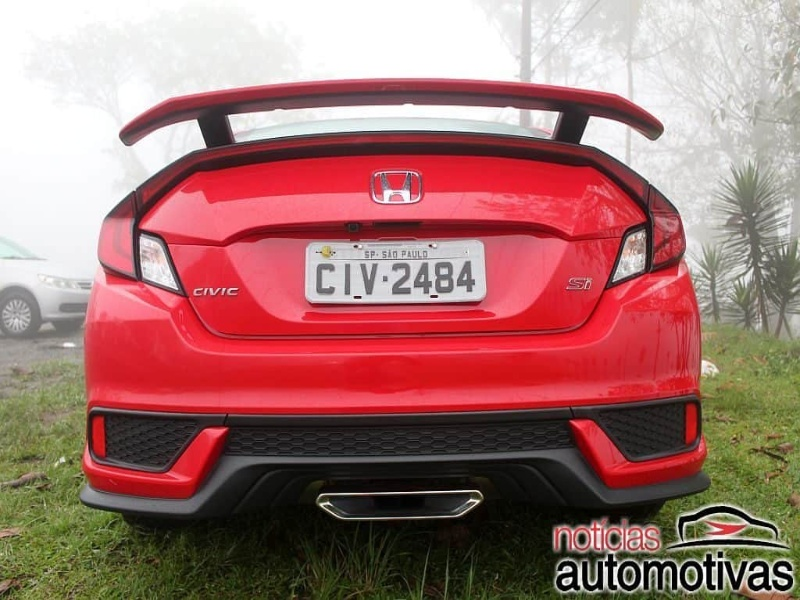placa: (305, 238, 488, 309)
